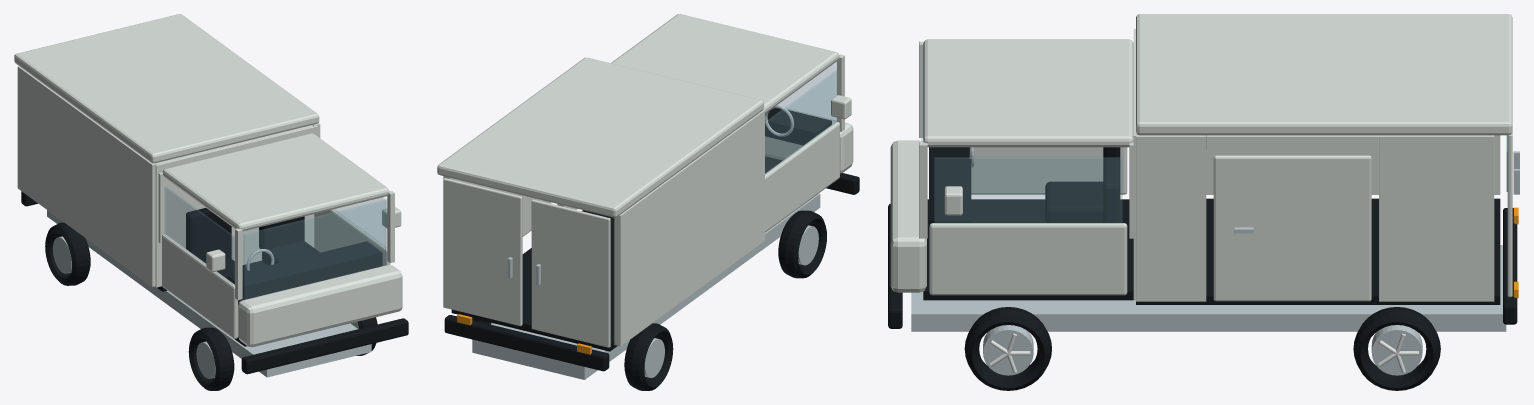
The model's file is edited.glb.
3 views of the same model, side by side, from view 1: azimuth 30°, elevation 25°; view 2: azimuth 150°, elevation 25°; view 3: azimuth 270°, elevation 25° (orthographic). The views are drawn at different scales.
Visible parts, largest first — view 1: CARGO_Roof, CARGO_LeftWall, CABIN_Roof, CABIN_Windscreen, CABIN_Nose, CARGO_Bulkhead, CABIN_Door.001, INTERIOR_Dashboard, CHASSIS, CABIN_SideGlass.001, BUMPER.001, CABIN_Door (+12 smaller); view 2: CARGO_Roof, CARGO_LeftWall, CABIN_Roof, REAR_DoorLeaf.001, REAR_DoorLeaf, CABIN_Door.001, CABIN_SideGlass.001, CHASSIS, BUMPER, CARGO_Floor, TYRE, TYRE.001 (+9 smaller); view 3: CARGO_Roof, CARGO_SlidingLeaf, CABIN_Roof, CARGO_RightWall, CHASSIS, CABIN_Door, CABIN_SideGlass, CARGO_RightWall.001, CABIN_Door.001, CABIN_Nose, CABIN_Floor, CARGO_Floor (+15 smaller).
Part boxes in pixels (x1,y1,x2,y2): CARGO_Roof: (14,14,319,163); CARGO_LeftWall: (17,66,158,286); CABIN_Roof: (162,133,389,231); CABIN_Windscreen: (243,200,385,299); CABIN_Nose: (238,265,402,347); CARGO_Bulkhead: (155,125,317,287); CABIN_Door.001: (162,234,237,338); INTERIOR_Dashboard: (227,241,382,300); CHASSIS: (47,210,371,377); CABIN_SideGlass.001: (164,186,234,285); BUMPER.001: (241,318,408,374); CABIN_Door: (314,209,390,265); CARGO_Roof: (437,57,763,217); CARGO_LeftWall: (614,110,764,346); CABIN_Roof: (611,14,839,113); REAR_DoorLeaf.001: (443,178,522,326); REAR_DoorLeaf: (531,199,610,347); CABIN_Door.001: (765,122,839,232); CABIN_SideGlass.001: (765,71,837,175); CHASSIS: (472,193,820,379); BUMPER: (444,315,609,371); CARGO_Floor: (451,210,617,351); TYRE: (778,210,826,278); TYRE.001: (624,323,673,390); CARGO_Roof: (1136,14,1512,135); CARGO_SlidingLeaf: (1213,155,1371,301); CABIN_Roof: (923,39,1133,147); CARGO_RightWall: (1379,135,1494,301); CHASSIS: (911,245,1506,331); CABIN_Door: (929,223,1127,295); CABIN_SideGlass: (934,157,1122,223); CARGO_RightWall.001: (1136,133,1206,301); CABIN_Door.001: (971,147,1127,194); CABIN_Nose: (890,140,926,292); CABIN_Floor: (923,199,1133,300); CARGO_Floor: (1136,198,1500,304).
Size of the model in its own units: 2.44 by 2.48 by 5.2.
